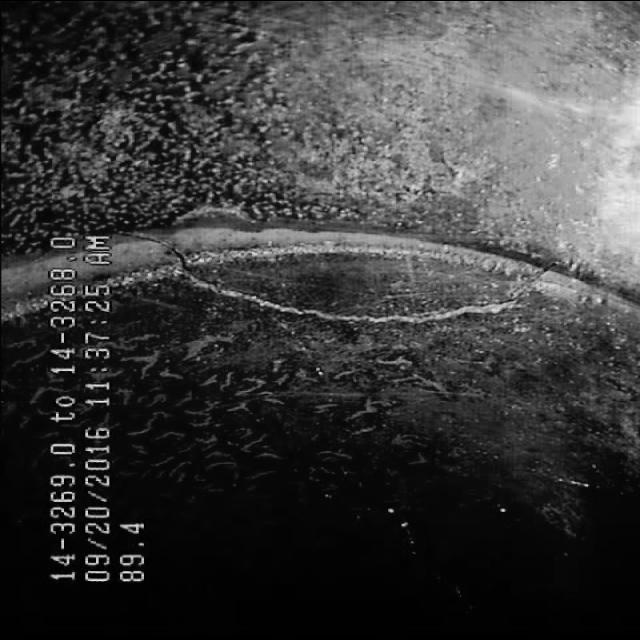Fracture: (176, 256, 542, 338)
